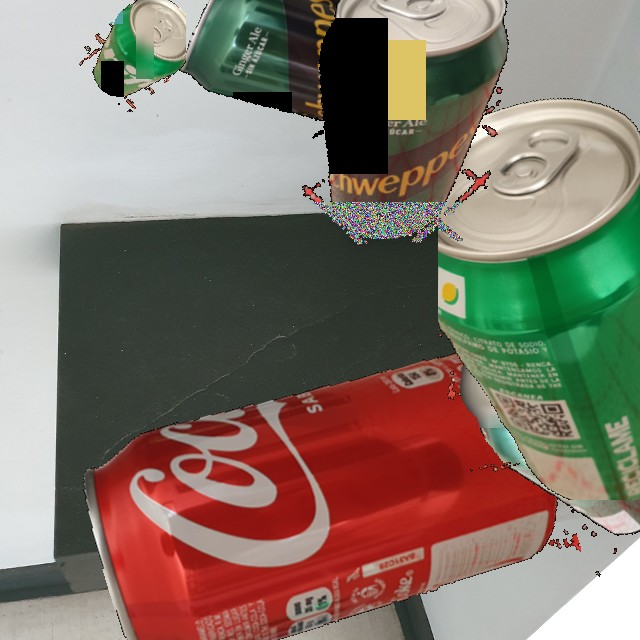coca cola: (68, 319, 581, 640)
schweppes: (400, 237, 640, 592), (270, 0, 529, 265), (173, 0, 467, 173)
sprite: (438, 73, 640, 500), (79, 0, 186, 112)
